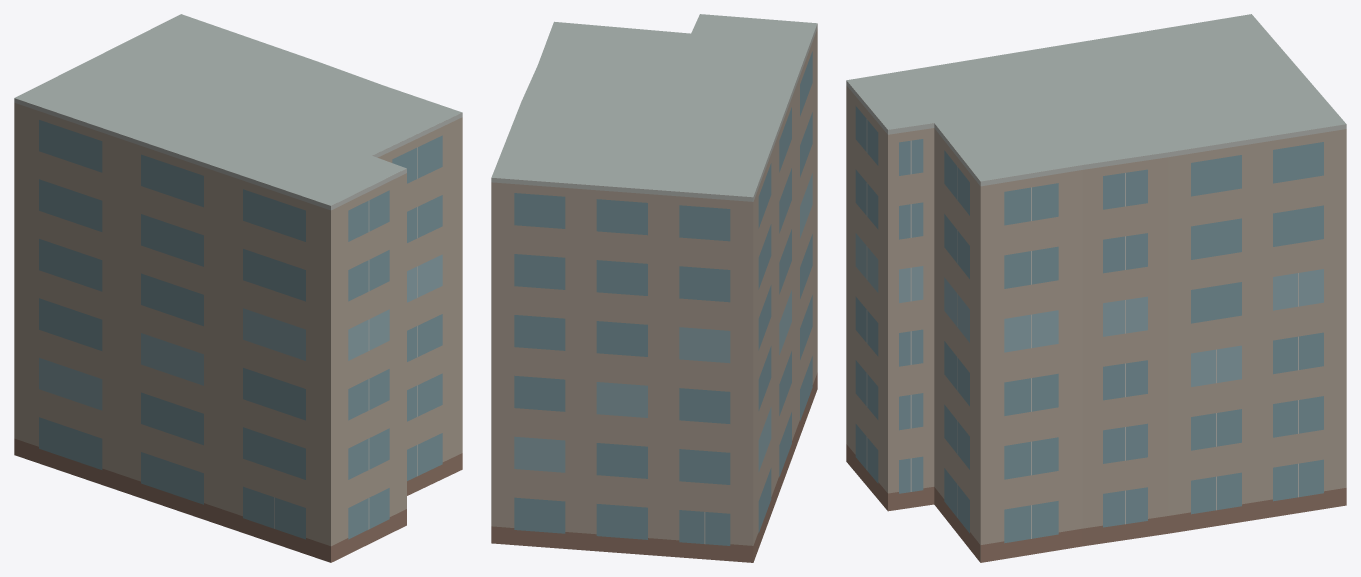
The model's file is survey-upis-32857751.glb.
The picture shows the model from 3 angles, left to right: view 1: azimuth 30°, elevation 25°; view 2: azimuth 150°, elevation 25°; view 3: azimuth 270°, elevation 25°; orthographic projection. The views are drawn at different scales.
Parts seen in each view (by area): view 1: survey-upis-32857751.tmp; view 2: survey-upis-32857751.tmp; view 3: survey-upis-32857751.tmp.
Part boxes in pixels (x1,y1,x2,y2): survey-upis-32857751.tmp: (14, 14, 462, 562); survey-upis-32857751.tmp: (491, 14, 817, 562); survey-upis-32857751.tmp: (846, 14, 1346, 562).
Bounding box in the file's own units: 18.16 × 19.25 × 22.9.
